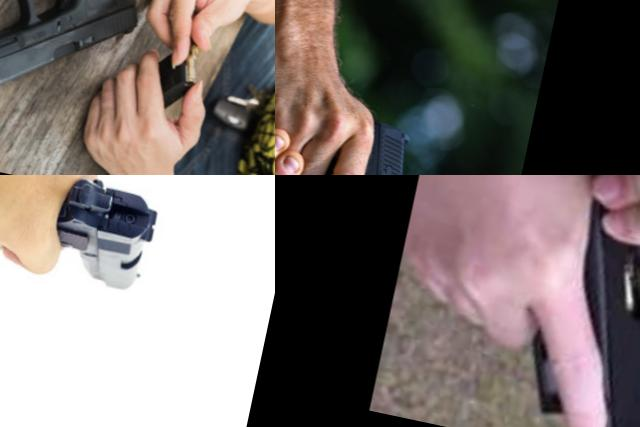handgun: (485, 175, 640, 427), (0, 175, 171, 299), (0, 0, 164, 128), (287, 99, 438, 175)
